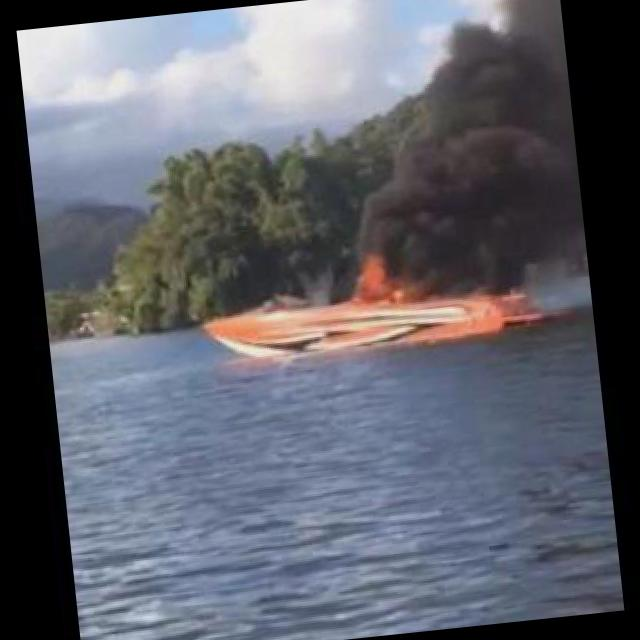Fire: (345, 249, 409, 313)
